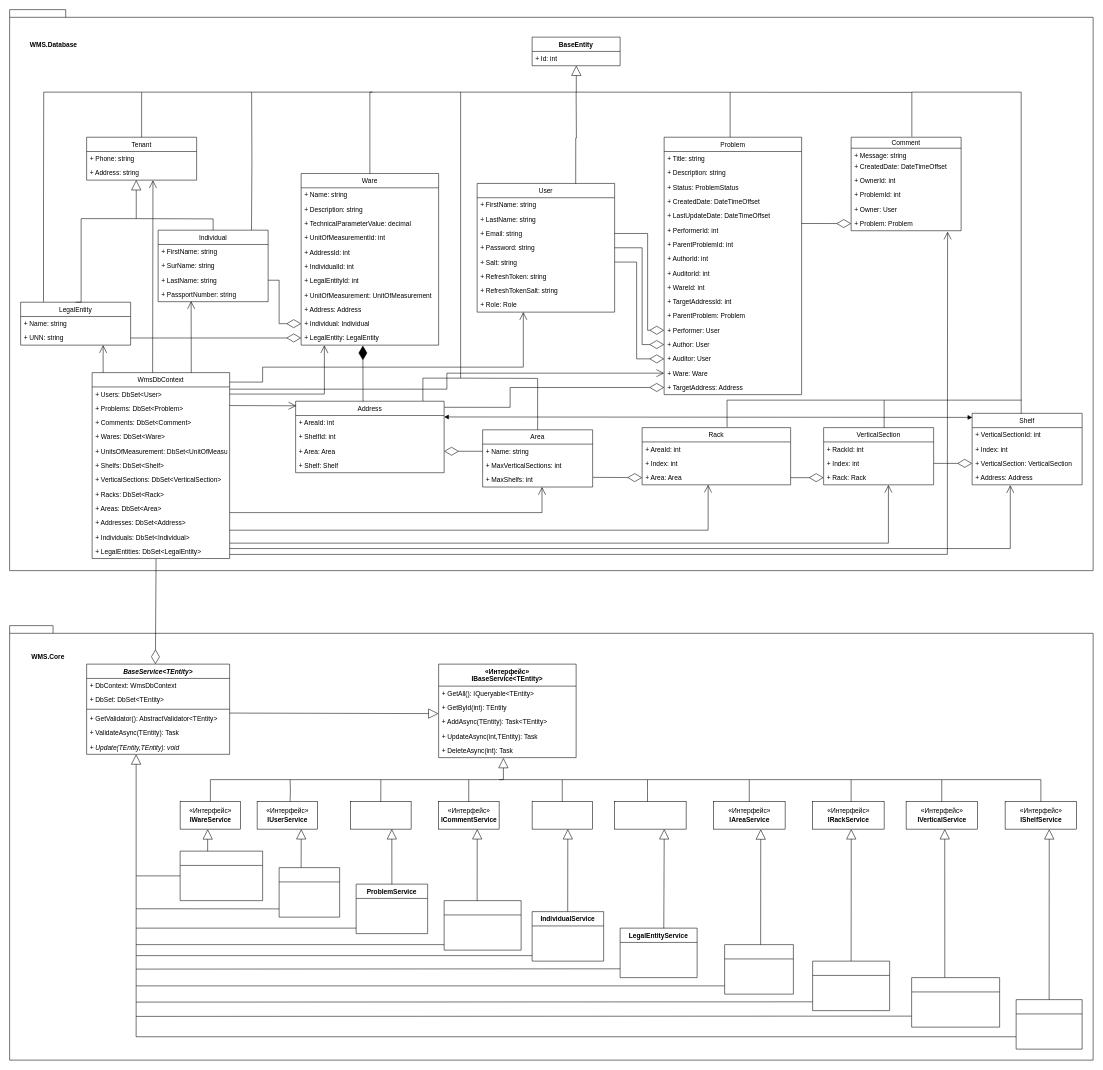
This 1103x1070 diagram has some shape labels left out. The centre of each missing label's shape, as x and y in pixels:
AreaService: [758,969]
CommentService: [482,925]
RackService: [851,986]
ShelfService: [1049,1024]
UserService: [309,892]
VerticalSectionService: [955,1002]
WareService: [221,876]
«Интерфейс» IIndividualService: [562,815]
«Интерфейс» ILegalEntityService: [650,815]
«Интерфейс» IProblemService: [380,815]
